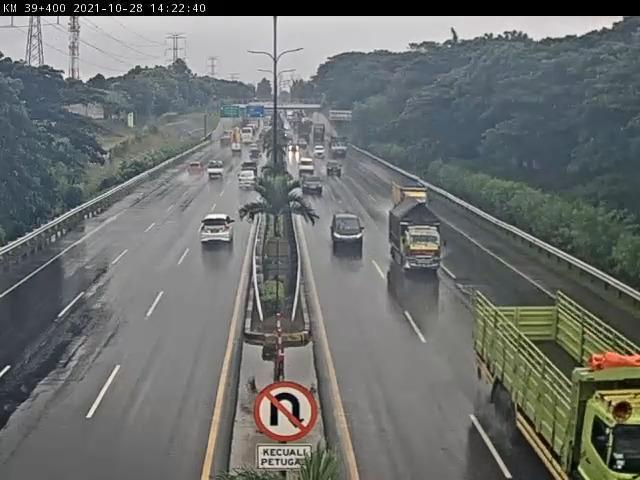car: (329, 211, 365, 247), (198, 212, 235, 246), (301, 171, 321, 193), (296, 156, 316, 172), (238, 160, 258, 176), (236, 172, 256, 188), (204, 162, 223, 178), (184, 162, 203, 178), (326, 159, 342, 175)
truck: (476, 288, 640, 480), (389, 198, 445, 274), (392, 178, 428, 210)
